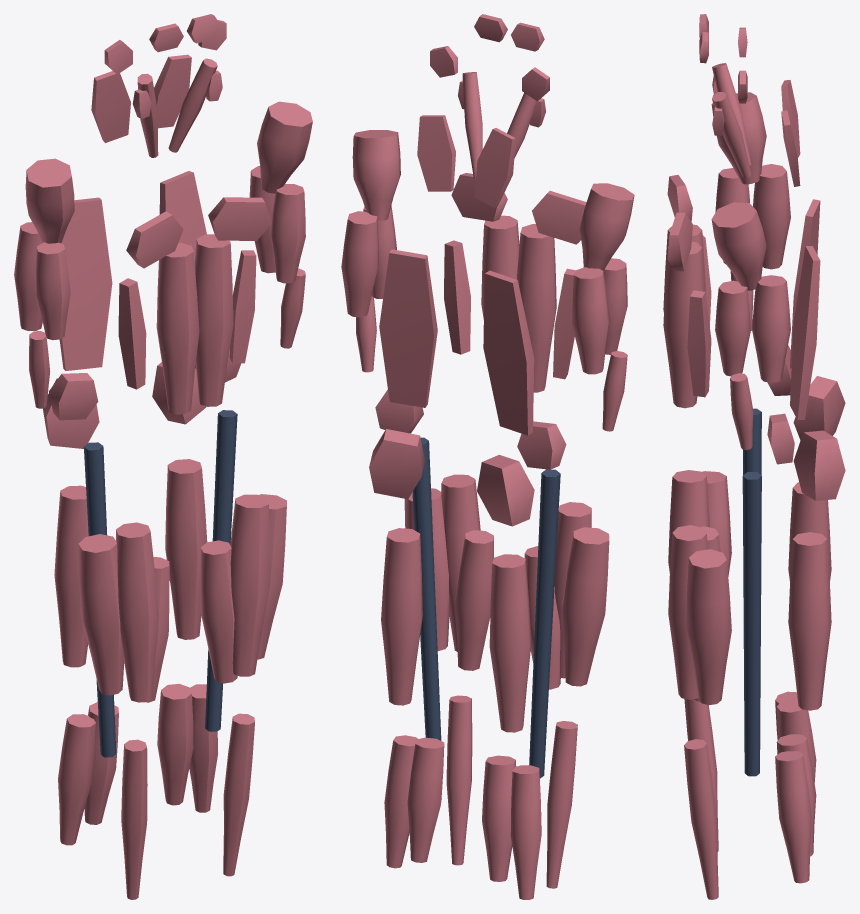
The model's file is AnatoFem_Model_Muscular.gltf.
3 views of the same model, side by side, from view 1: azimuth 30°, elevation 25°; view 2: azimuth 150°, elevation 25°; view 3: azimuth 270°, elevation 25° (orthographic). The views are drawn at different scales.
Bounding box in the file's own units: 3.31 × 9.73 × 1.9.
